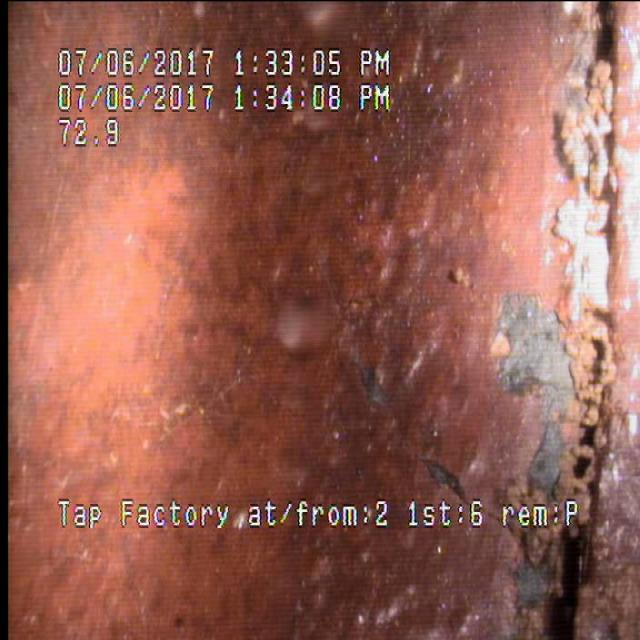Crack: (77, 292, 473, 485)
